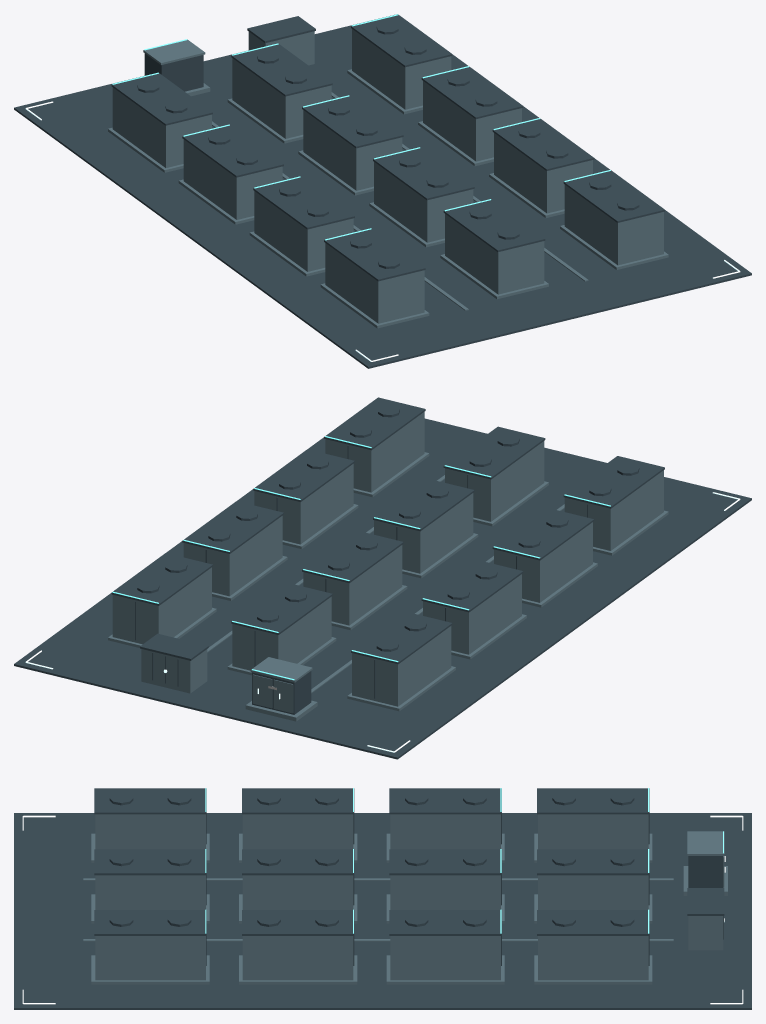
Rendered from battery_storage.lod1.glb.
3 renders of one model, top to bottom at view 1: azimuth 30°, elevation 25°; view 2: azimuth 150°, elevation 25°; view 3: azimuth 270°, elevation 25°, orthographic. The views are drawn at different scales.
Visible parts, largest first — view 1: battery_storage_graphite.001, battery_storage_graphite_light.001, battery_storage_edge.001; view 2: battery_storage_graphite.001, battery_storage_graphite_light.001, battery_storage_edge.001; view 3: battery_storage_graphite.001, battery_storage_graphite_light.001, battery_storage_edge.001, battery_storage_white.001.
Boxes of the visible parts, x1=… form: battery_storage_graphite.001: x1=14, y1=14, x2=751, y2=368; battery_storage_graphite_light.001: x1=108, y1=29, x2=668, y2=328; battery_storage_edge.001: x1=112, y1=14, x2=610, y2=240; battery_storage_graphite.001: x1=14, y1=397, x2=751, y2=759; battery_storage_graphite_light.001: x1=108, y1=412, x2=668, y2=721; battery_storage_edge.001: x1=112, y1=436, x2=610, y2=680; battery_storage_graphite.001: x1=14, y1=788, x2=751, y2=1009; battery_storage_graphite_light.001: x1=83, y1=814, x2=727, y2=984; battery_storage_edge.001: x1=205, y1=788, x2=723, y2=933; battery_storage_white.001: x1=22, y1=815, x2=743, y2=1004.
Size of the model in its own units: 50 by 6.41 by 80.
